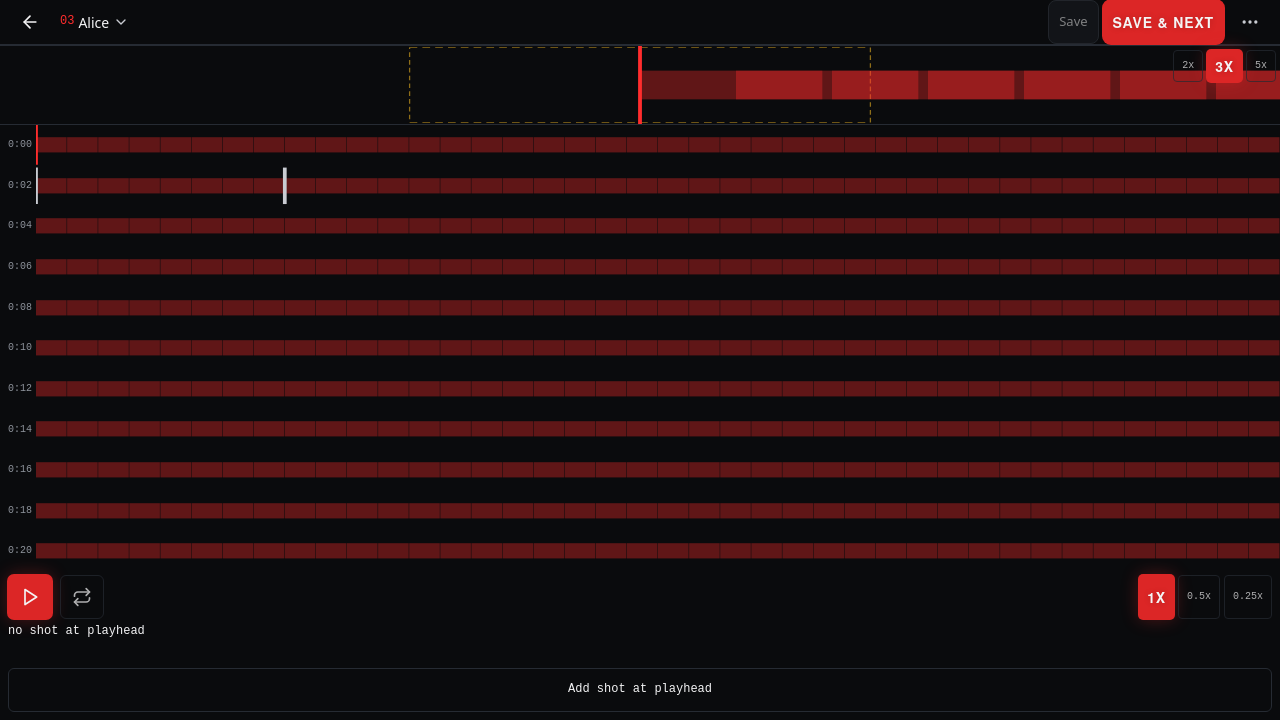
Test: MobileAudit navigation › Save & next saves, even with nothing changed, and opens the next stage
This screenshot has width=1280, height=720.
Click the button "Save & next" at (1163, 22), box [1103,0,1224,44]
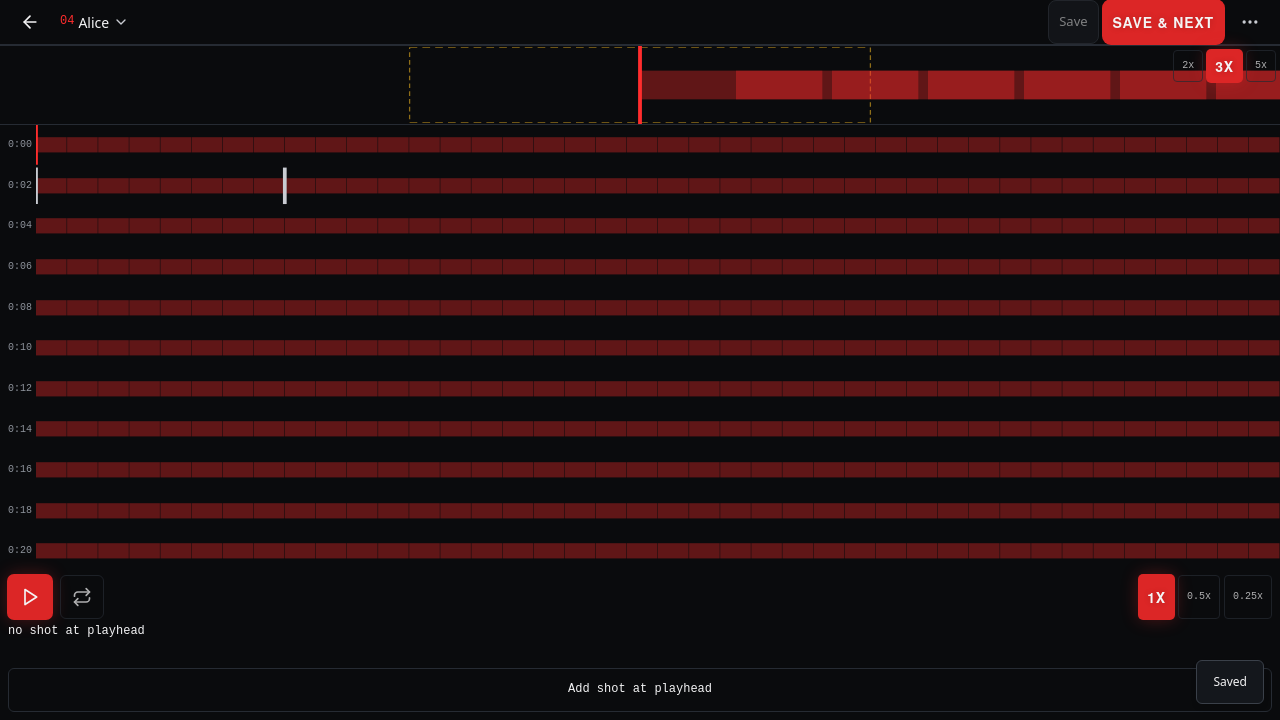
Now the text with test id "where" reads "/match/m1/audit/alice/4", box [0,1,183,23]
